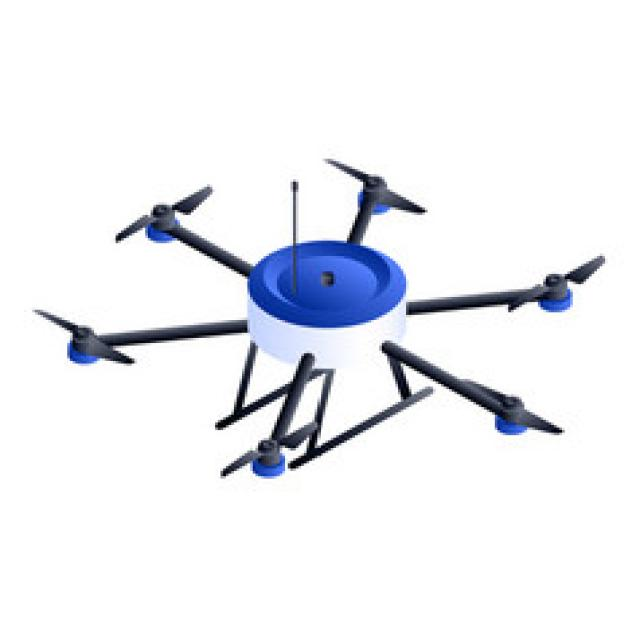drone: (6, 151, 623, 505)
